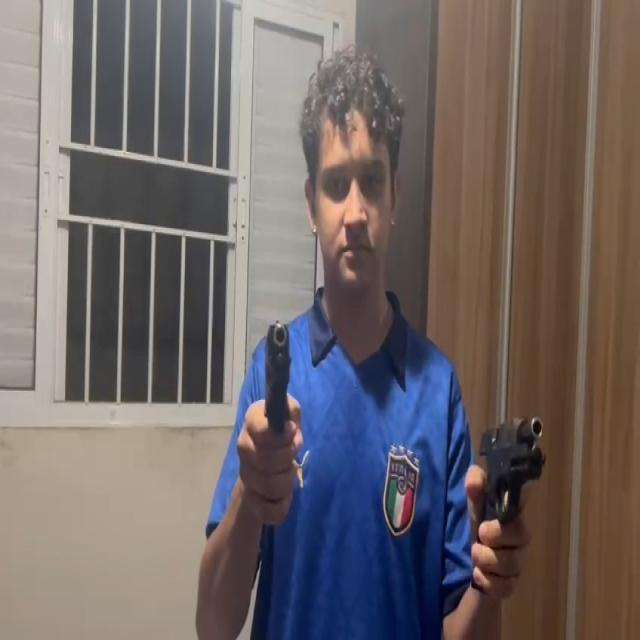gun: (471, 414, 548, 596), (258, 318, 295, 432)
